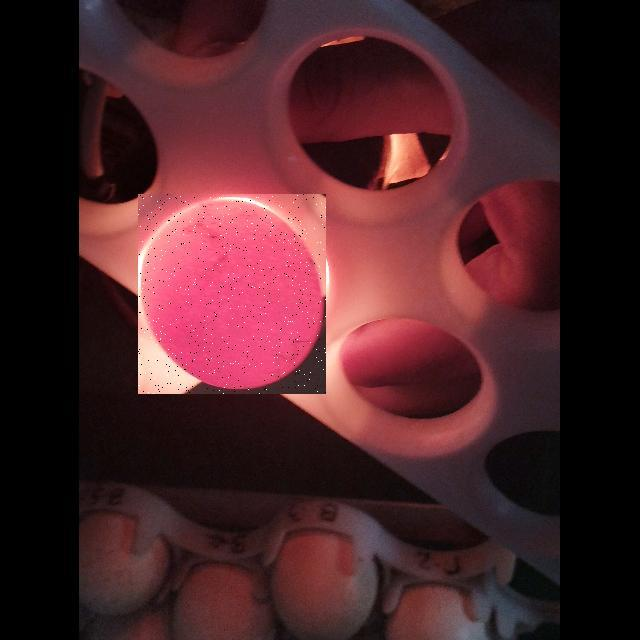Infertile: (138, 194, 326, 394)
